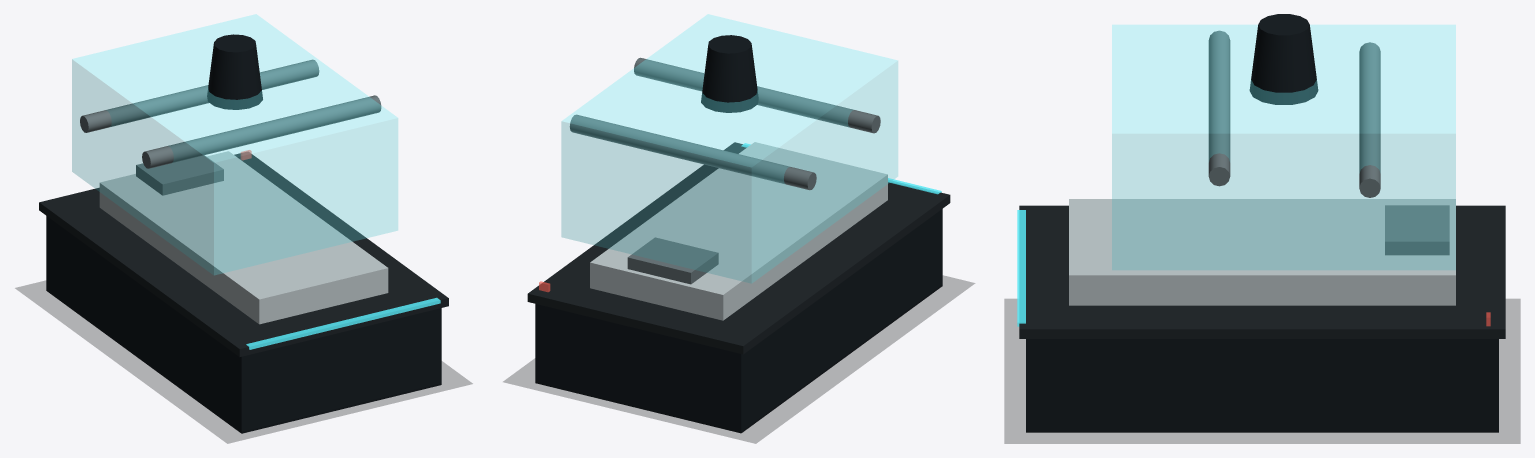
Rendered from hp_room_cyber_operating_pod.glb.
3 renders of one model, left to right at view 1: azimuth 30°, elevation 25°; view 2: azimuth 150°, elevation 25°; view 3: azimuth 270°, elevation 25°, orthographic. The views are drawn at different scales.
Visible parts, largest first — view 1: dome_glass, pod_base, surgical_bed, drain_gutter, contact_shadow, dome_rib_b, instrument_turret, dome_rib_a, head_cradle, theatre_ring; view 2: dome_glass, pod_base, surgical_bed, drain_gutter, contact_shadow, dome_rib_a, instrument_turret, dome_rib_b, head_cradle; view 3: dome_glass, pod_base, surgical_bed, drain_gutter, contact_shadow, instrument_turret, dome_rib_b, dome_rib_a, head_cradle, theatre_ring.
Boxes of the visible parts, x1,y1,x2,y2 form: dome_glass: [72, 14, 397, 274]; pod_base: [46, 216, 441, 433]; surgical_bed: [99, 151, 388, 324]; drain_gutter: [39, 152, 448, 356]; contact_shadow: [15, 280, 472, 443]; dome_rib_b: [142, 95, 381, 168]; instrument_turret: [207, 34, 262, 109]; dome_rib_a: [80, 59, 319, 132]; head_cradle: [136, 155, 223, 195]; theatre_ring: [246, 297, 440, 349]; dome_glass: [561, 14, 897, 283]; pod_base: [535, 209, 942, 433]; surgical_bed: [590, 142, 887, 320]; drain_gutter: [527, 142, 950, 354]; contact_shadow: [503, 275, 974, 443]; dome_rib_a: [569, 114, 816, 190]; instrument_turret: [701, 35, 758, 112]; dome_rib_b: [634, 57, 880, 133]; head_cradle: [627, 237, 718, 284]; dome_glass: [1112, 25, 1455, 269]; pod_base: [1026, 339, 1498, 432]; surgical_bed: [1069, 199, 1455, 305]; drain_gutter: [1019, 205, 1505, 338]; contact_shadow: [1004, 299, 1520, 443]; instrument_turret: [1249, 14, 1318, 104]; dome_rib_b: [1208, 30, 1230, 186]; dome_rib_a: [1359, 42, 1380, 197]; head_cradle: [1385, 205, 1449, 255]; theatre_ring: [1017, 210, 1025, 326].
Bounding box in the file's own units: 1.6 × 1.79 × 2.4.
